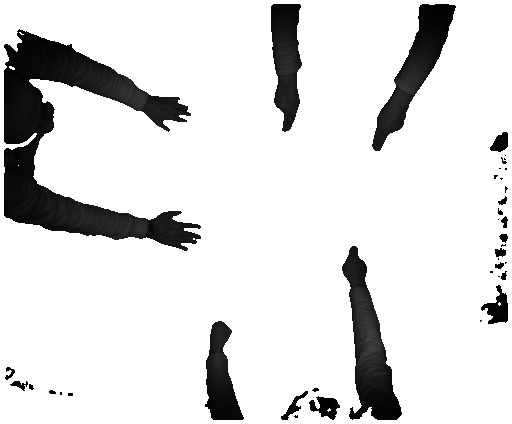fist: (208, 320, 231, 348)
hand: (152, 208, 207, 255), (368, 103, 415, 151), (149, 90, 191, 135), (272, 79, 303, 135), (338, 240, 367, 288)
